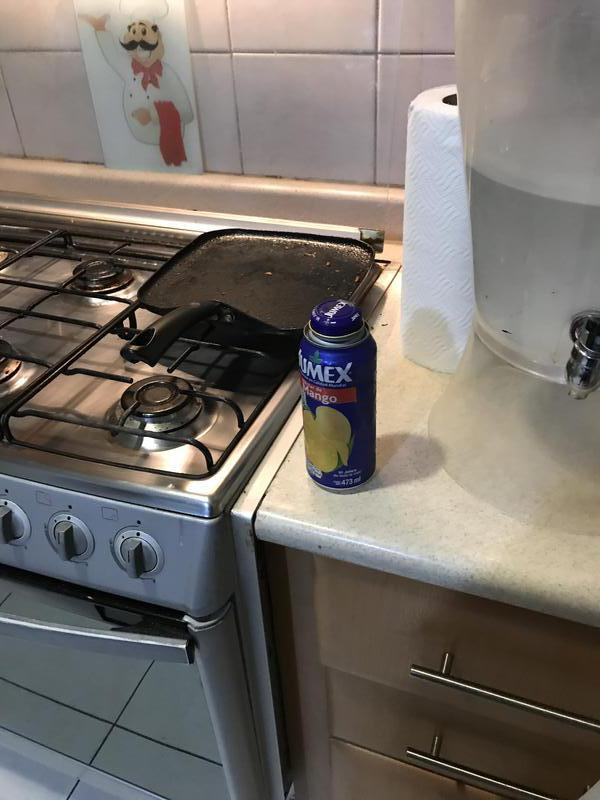jugo_jumex: (300, 298, 379, 492)
